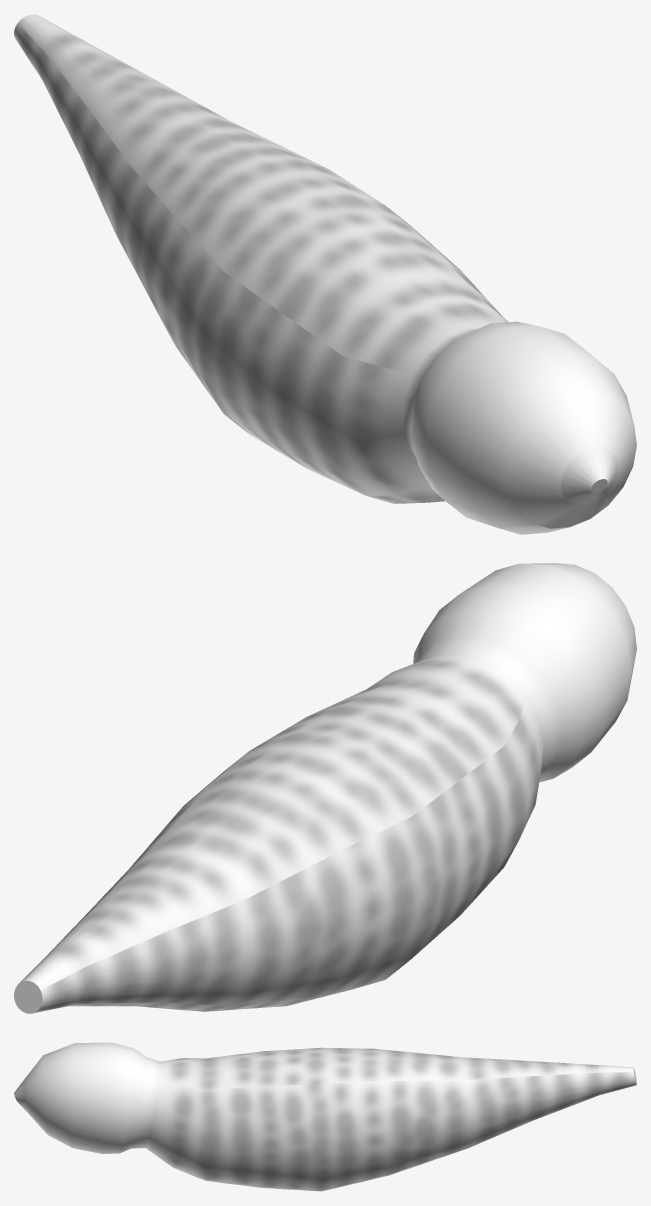
Rendered from body.fbx.
3 renders of one model, top to bottom at view 1: azimuth 30°, elevation 25°; view 2: azimuth 150°, elevation 25°; view 3: azimuth 270°, elevation 25°, orthographic. The views are drawn at different scales.
Parts seen in each view (by area): view 1: pCylinder1; view 2: pCylinder1; view 3: pCylinder1.
Part boxes in pixels (left/top/right/bottom): pCylinder1: left=14, top=14, right=636, bottom=534; pCylinder1: left=14, top=563, right=636, bottom=1013; pCylinder1: left=14, top=1042, right=636, bottom=1191.
Bounding box in the file's own units: 2.23 × 2.34 × 9.58.
Materials: 1 (1 with a texture image).
